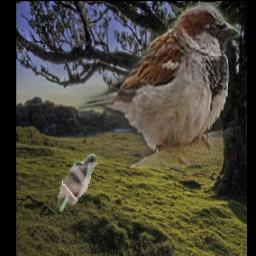Cuckoo: (57, 155, 103, 214)
Sparrow: (78, 3, 241, 169)
